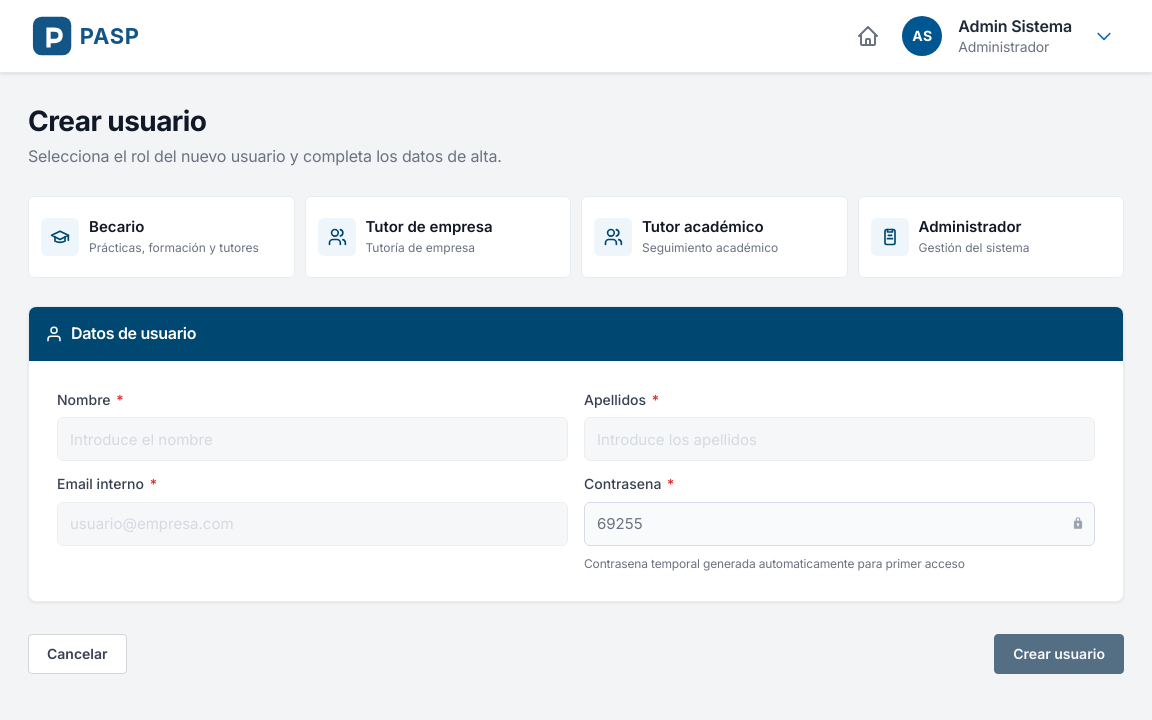
Test: NuevoUsuarioPage › mantiene seleccionado el rol después de crear un usuario
Click the button "Administrador Gestión del sistema": (991,237) [858,196,1124,278]
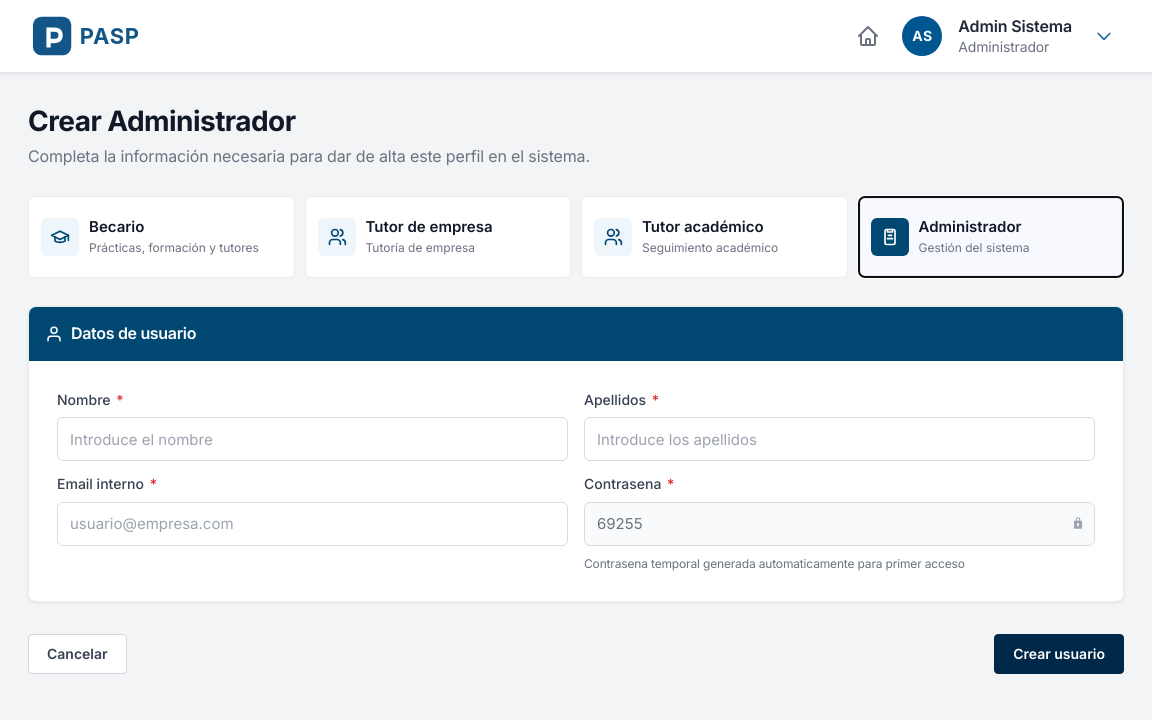
In the field labelled "Nombre *": (312,439) [57,417,568,461], type "Ana"
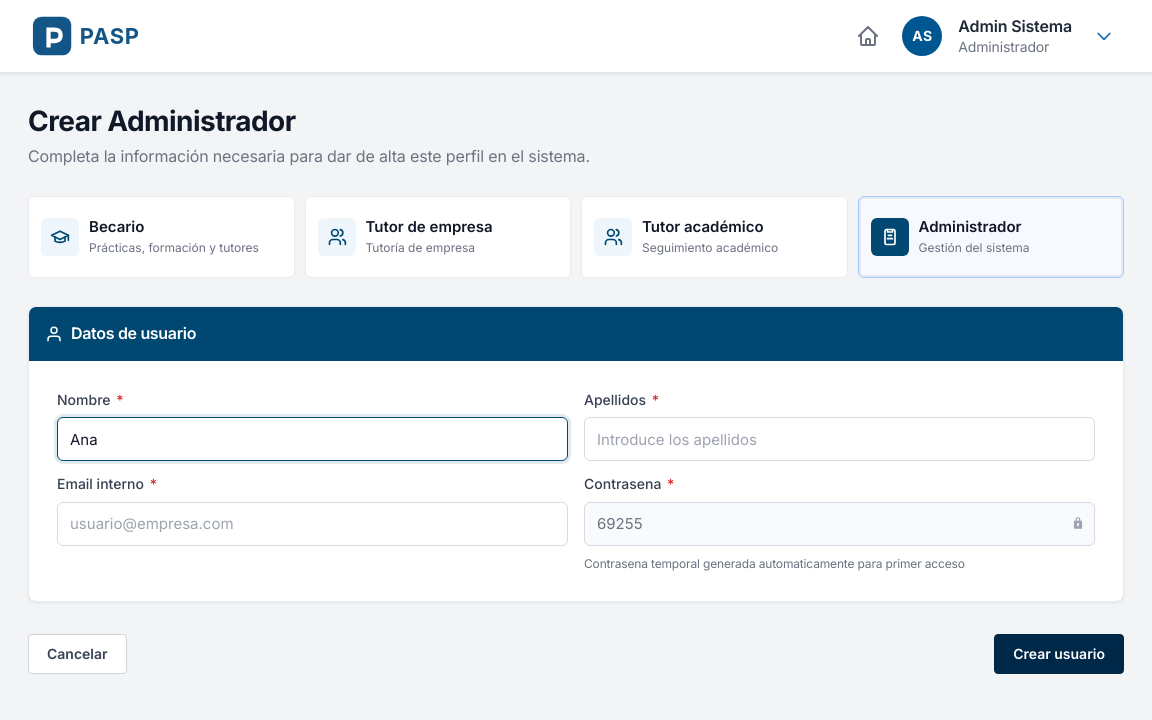
In the field labelled "Apellidos *": (840,439) [584,417,1095,461], type "López"
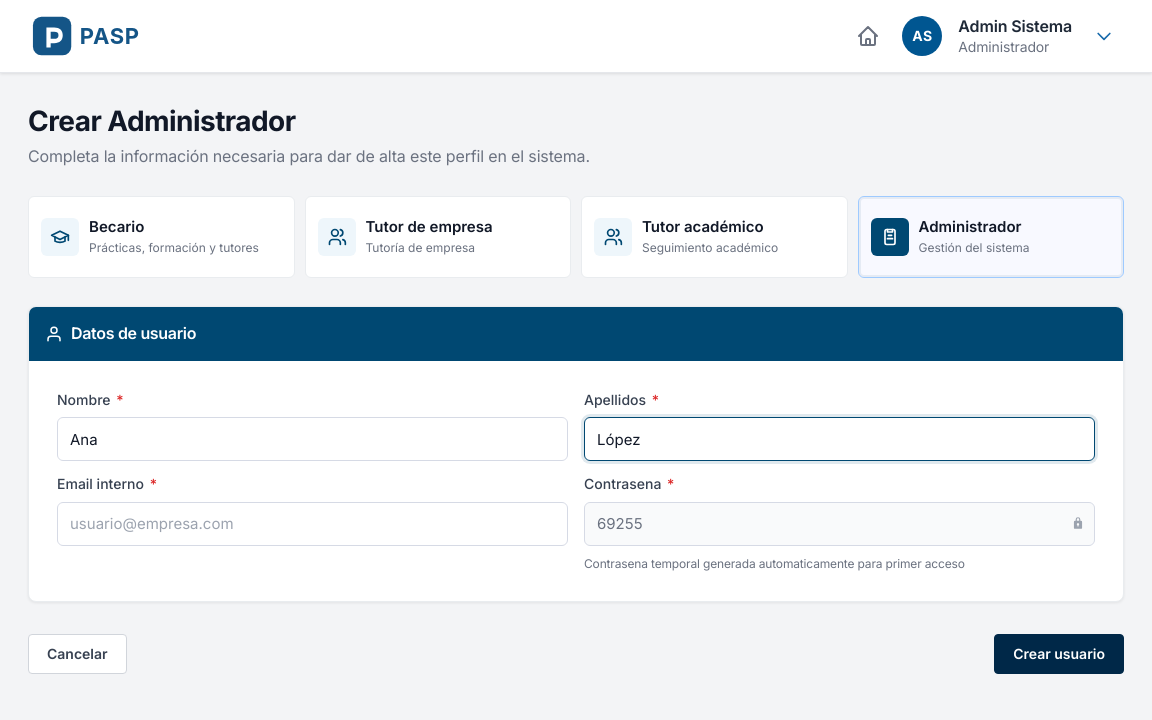
In the field labelled "Email interno *": (312,524) [57,502,568,546], type "ana@pasp.com"
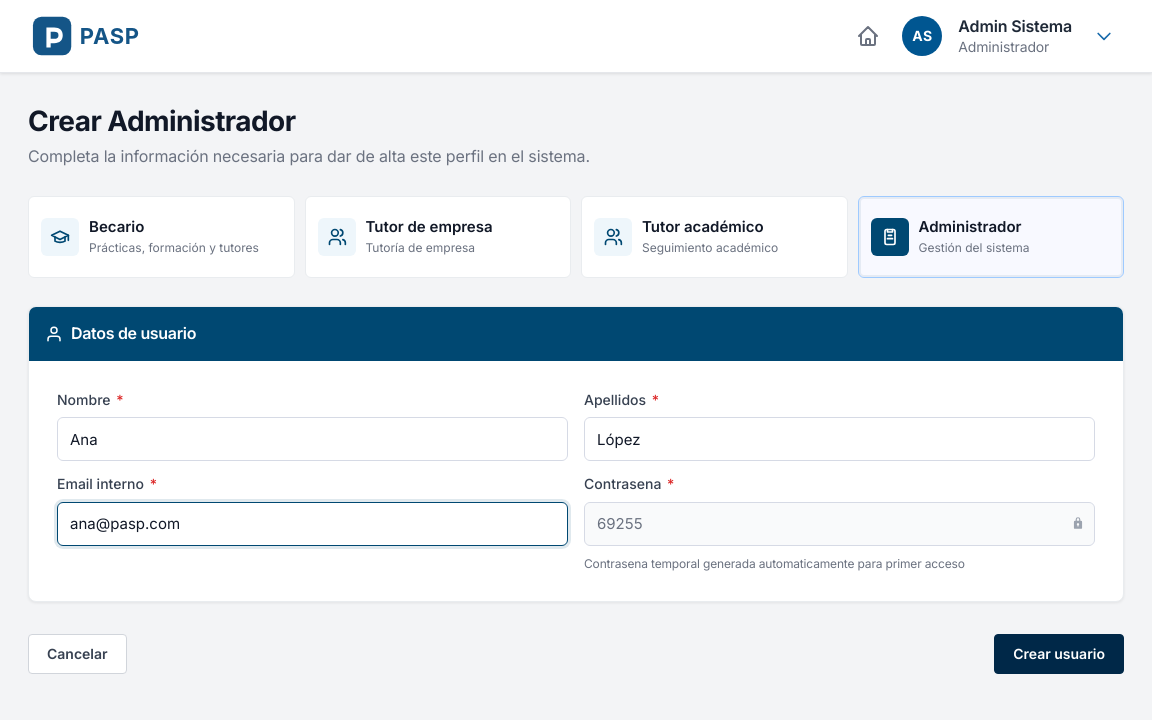
Click the button "Crear usuario": (1059,654) [994,634,1124,674]
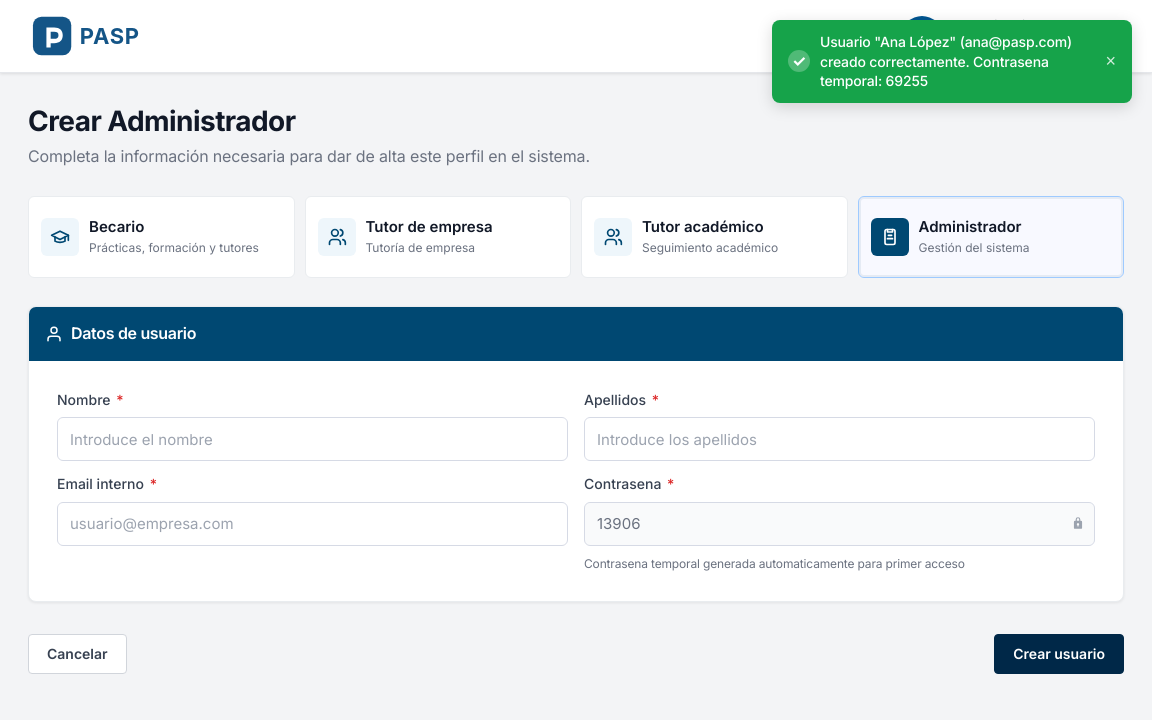
Expected: the heading "Crear Administrador" is shown, [28,104,296,138]
Expected: the text "creado correctamente" is shown, [820,33,1072,89]
Expected: the field labelled "Nombre *" is empty, [57,417,568,461]
